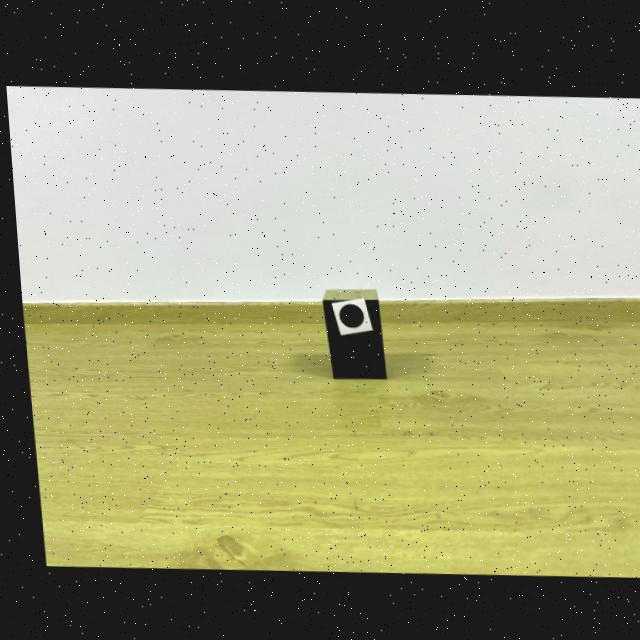CIRCLE: (334, 301, 359, 324)
